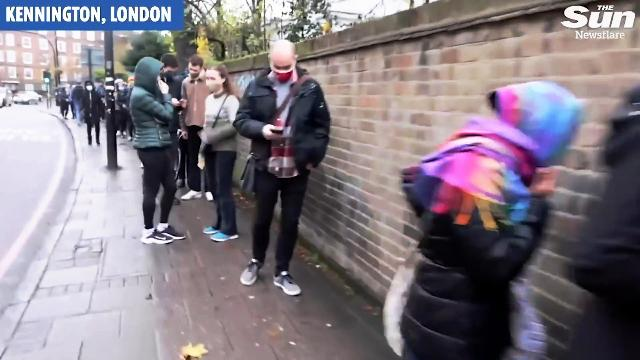berdiri: (231, 30, 337, 300)
